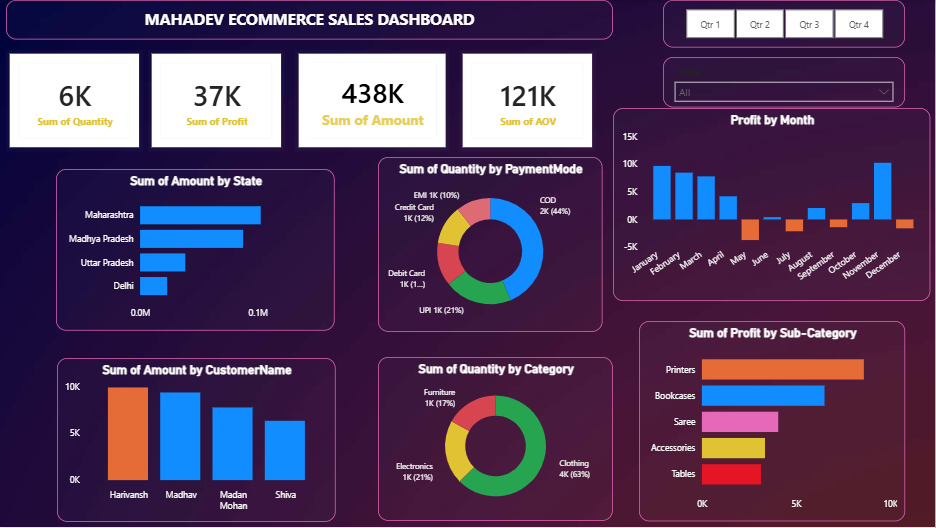

Layout of this report page (visuals, bound fields, positions):
{"tool":"powerbi","page":{"name":"Sales Data","canvas":[1280,720],"ordinal":0},"visuals":[{"type":"textbox","box":[9.7,0,830,54.3],"z":0},{"type":"columnChart","title":"Profit by Month","fields":{"Y":["Sum(Details.Profit)"],"Category":["Orders.Order Date.Variation.Date Hierarchy.Month"]},"box":[839.7,147.2,434.3,264.2],"z":1000},{"type":"barChart","fields":{"Category":["Details.Sub-Category"],"Y":["Sum(Details.Profit)"]},"box":[874.7,439.1,364.3,273.9],"z":2000},{"type":"donutChart","fields":{"Category":["Details.Category"],"Y":["Sum(Details.Quantity)"]},"box":[518.6,488.6,321.4,224.3],"z":3000},{"type":"donutChart","fields":{"Category":["Details.PaymentMode","Details.Category"],"Y":["Sum(Details.Quantity)"]},"box":[518.6,214.3,307.1,238.6],"z":4000},{"type":"cardVisual","fields":{"Data":["Sum(Details.Quantity)"]},"box":[10,68.6,187.1,138.6],"z":5000},{"type":"cardVisual","fields":{"Data":["Sum(Details.Profit)"]},"box":[204.3,68.6,187.1,138.6],"z":6000},{"type":"cardVisual","fields":{"Data":["Sum(Details.Amount)"]},"box":[404.3,68.6,211.4,138.6],"z":7000},{"type":"cardVisual","fields":{"Data":["Sum(Details.AOV)"]},"box":[628.6,68.6,187.1,138.6],"z":8000},{"type":"barChart","fields":{"Category":["Orders.State"],"Y":["Sum(Details.Amount)"]},"box":[78.6,231.4,381.4,221.4],"z":9000},{"type":"columnChart","fields":{"Category":["Orders.CustomerName"],"Y":["Sum(Details.Amount)"]},"box":[79,489,381,224],"z":10000},{"type":"slicer","fields":{"Values":["Orders.State"]},"box":[908.4,78.4,330.6,68.8],"z":11000},{"type":"slicer","fields":{"Values":["Orders.Order Date.Variation.Date Hierarchy.Quarter"]},"box":[908.4,0,330.6,65.1],"z":12000}]}

Visuals, with their boxes in screenshot pixels (x1, y1, x2, y2), scaled from the page's 1280x720 canvas onto the 936x528 screenshot:
textbox: Rect(7, 0, 614, 40)
"Profit by Month" columnChart: Rect(614, 108, 932, 302)
barChart - Details.Sub-Category x Sum(Details.Profit): Rect(640, 322, 906, 523)
donutChart - Details.Category x Sum(Details.Quantity): Rect(379, 358, 614, 523)
donutChart - Details.PaymentMode x Details.Category: Rect(379, 157, 604, 332)
cardVisual - Sum(Details.Quantity): Rect(7, 50, 144, 152)
cardVisual - Sum(Details.Profit): Rect(149, 50, 286, 152)
cardVisual - Sum(Details.Amount): Rect(296, 50, 450, 152)
cardVisual - Sum(Details.AOV): Rect(460, 50, 596, 152)
barChart - Orders.State x Sum(Details.Amount): Rect(57, 170, 336, 332)
columnChart - Orders.CustomerName x Sum(Details.Amount): Rect(58, 359, 336, 523)
slicer - Orders.State: Rect(664, 57, 906, 108)
slicer - Orders.Order Date.Variation.Date Hierarchy.Quarter: Rect(664, 0, 906, 48)
